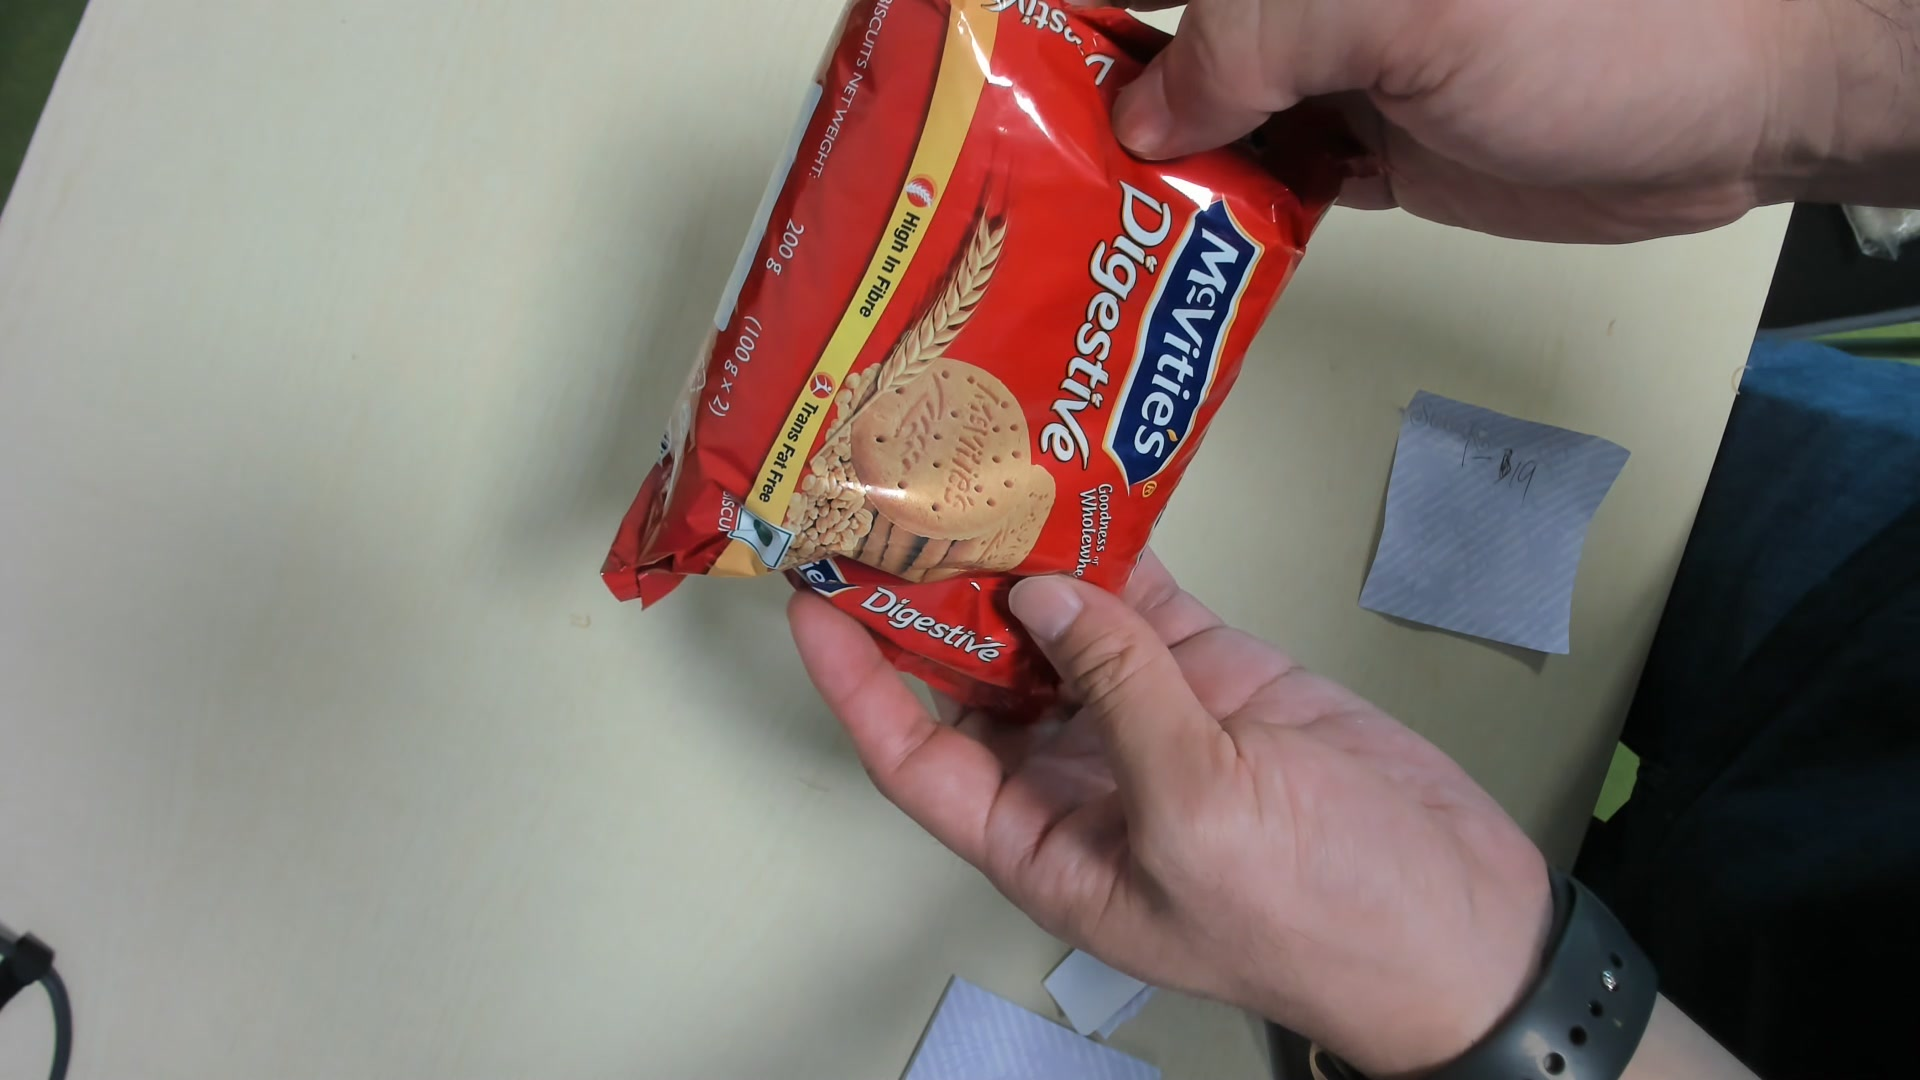BiscuitsCrackersCookies_200-299g_NonHalal_NonHealthy: (608, 7, 1342, 692)
